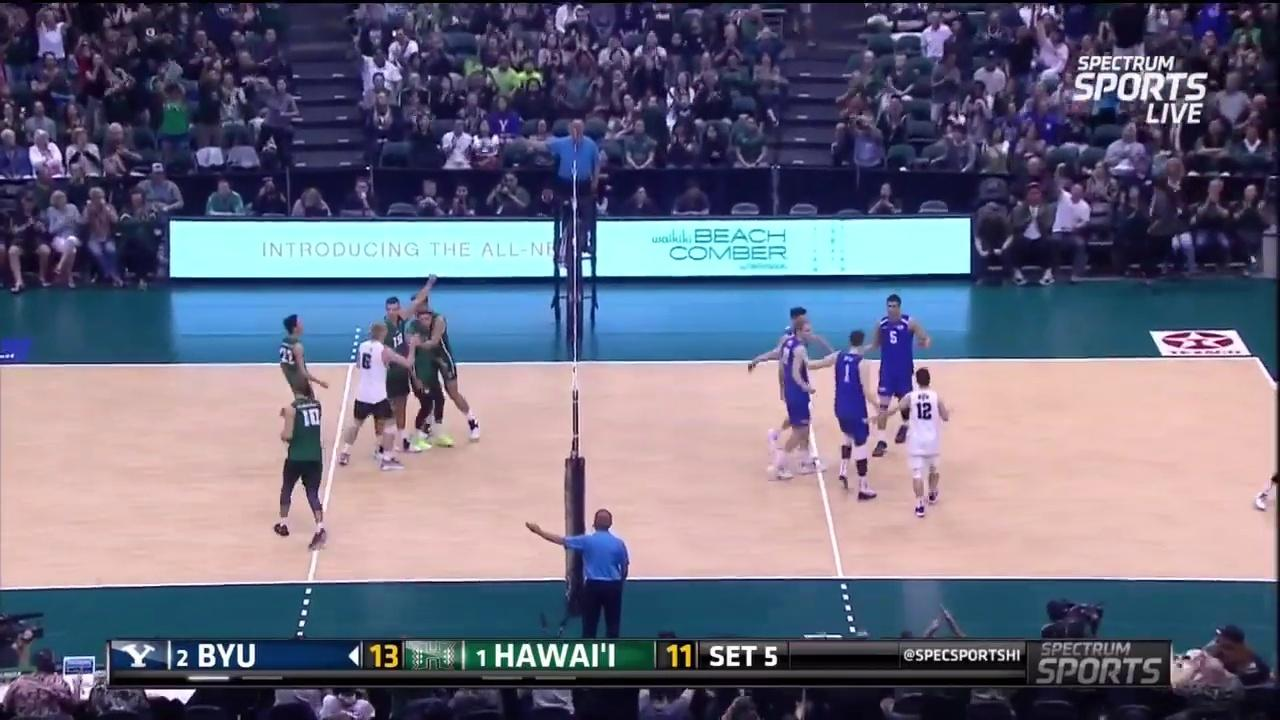player: (267, 379, 340, 559), (411, 290, 487, 449), (756, 324, 824, 485), (342, 316, 412, 471), (827, 324, 887, 496), (873, 294, 927, 452), (274, 308, 331, 444), (896, 372, 948, 513), (774, 299, 819, 436), (410, 309, 452, 454), (374, 295, 414, 446)
refree: (532, 508, 633, 636), (542, 114, 609, 256)
